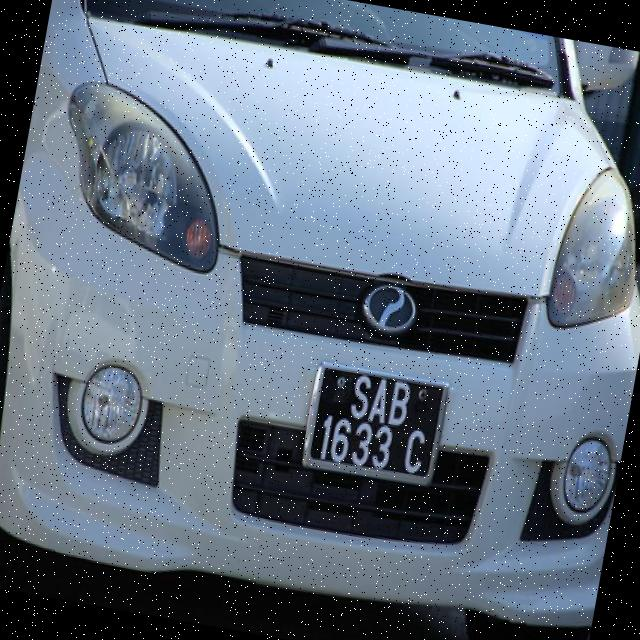License_Plate: (290, 350, 466, 499)
car: (1, 1, 640, 640)
